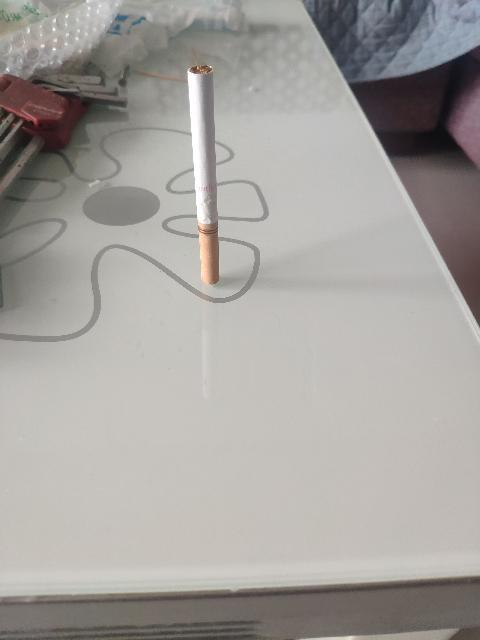Smoking: (188, 66, 222, 284)
